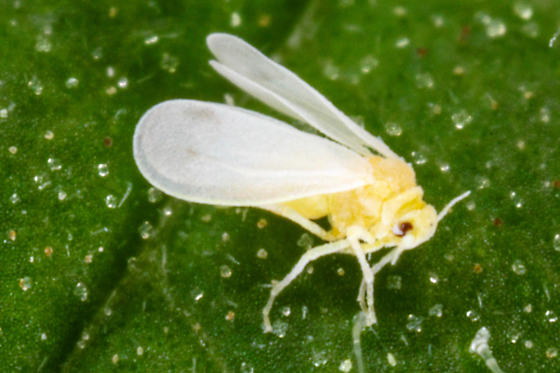Tobacco Whitefly: (136, 38, 438, 309)
